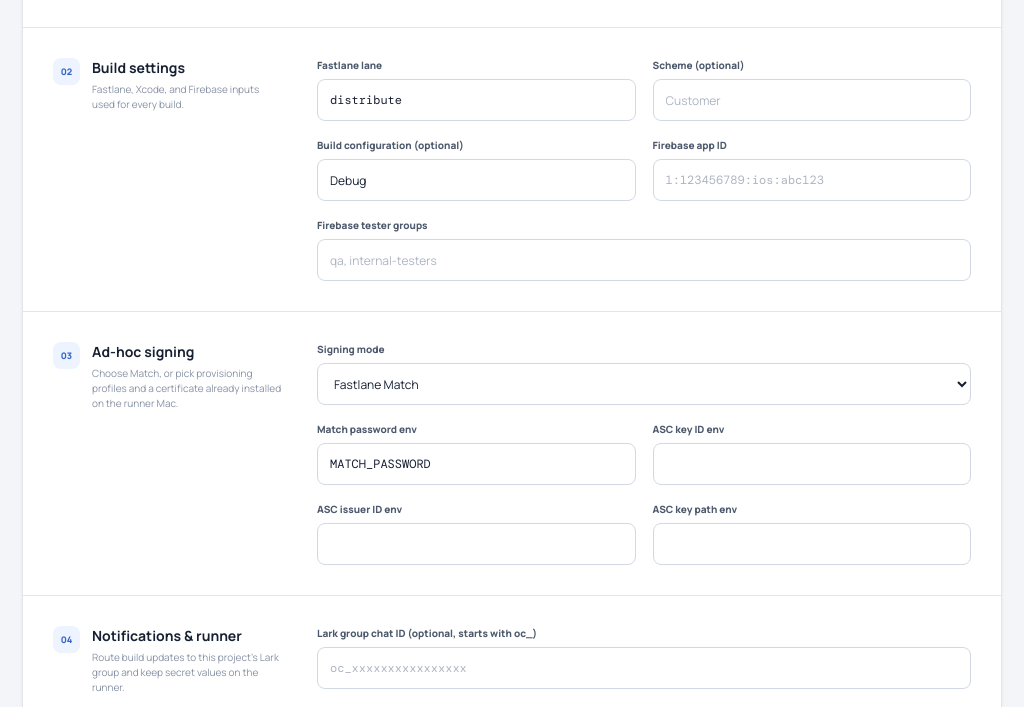
Scenario: ProjectFormPage manual signing › lists installed profiles and fills bundle ID, team, and certificate from the chosen profile
(page scrolled)
Select "Manual signing" in the dropdown labelled "Signing mode" at (644,384), box [317, 364, 971, 406]
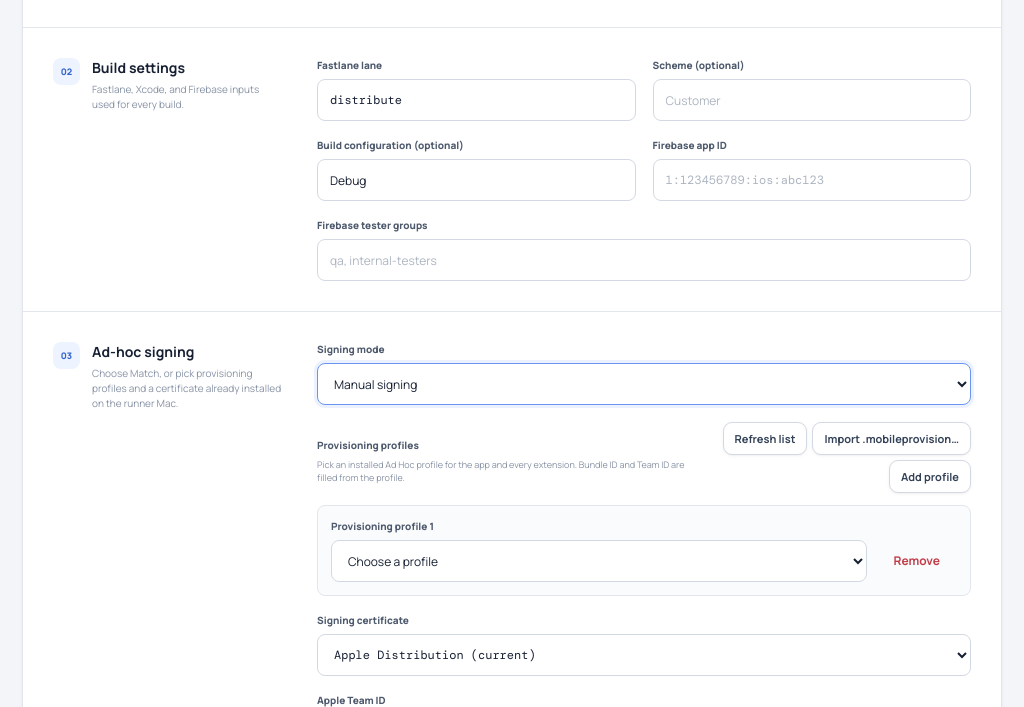
Select "com.example.app — Example App AdHoc (AB12CDEFGH, expires Aug 17, 2027)" in the dropdown labelled "Provisioning profile 1" at (599,562), box [331, 540, 866, 582]
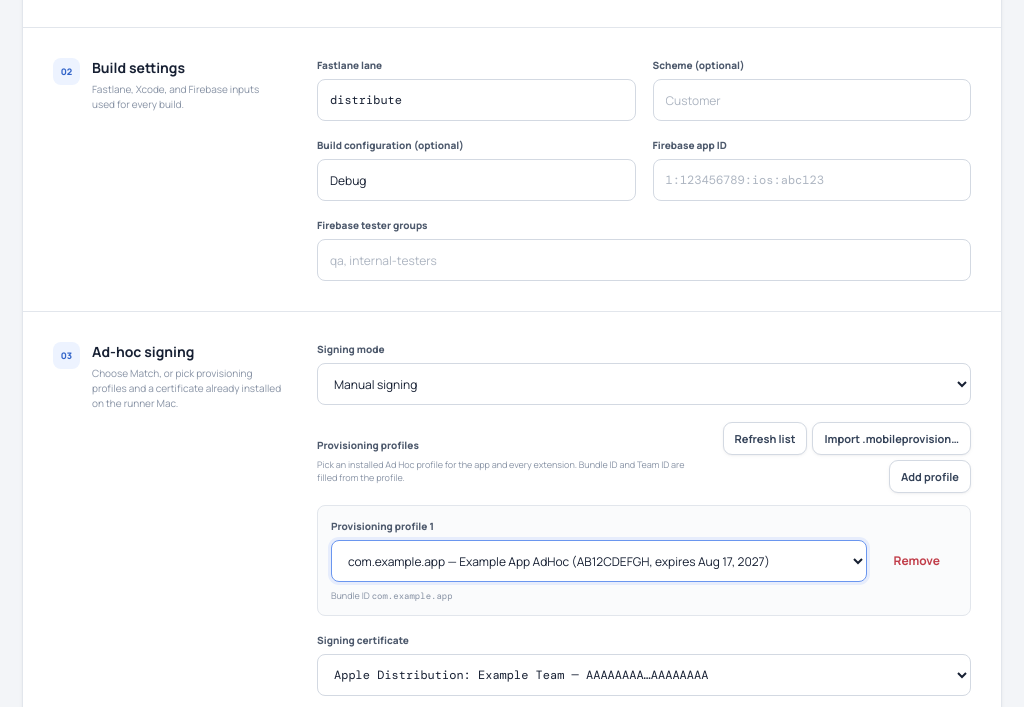
Expected: the text "com.example.app" is shown, [372, 590, 453, 602]
